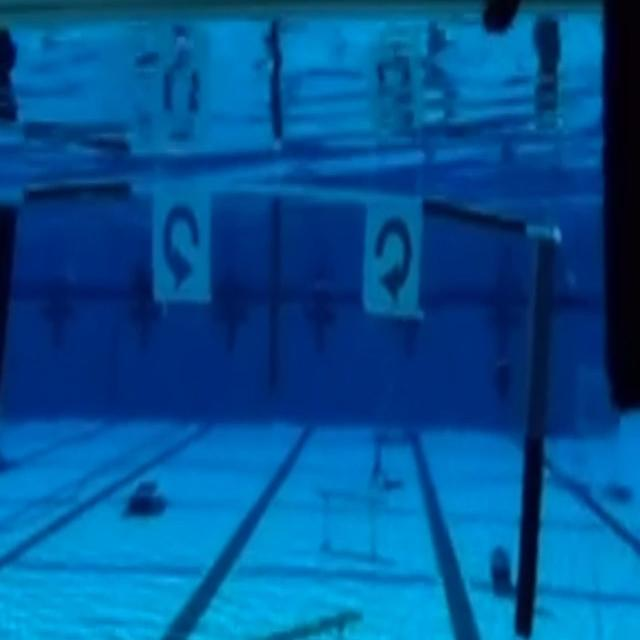Gate: (0, 165, 562, 640)
